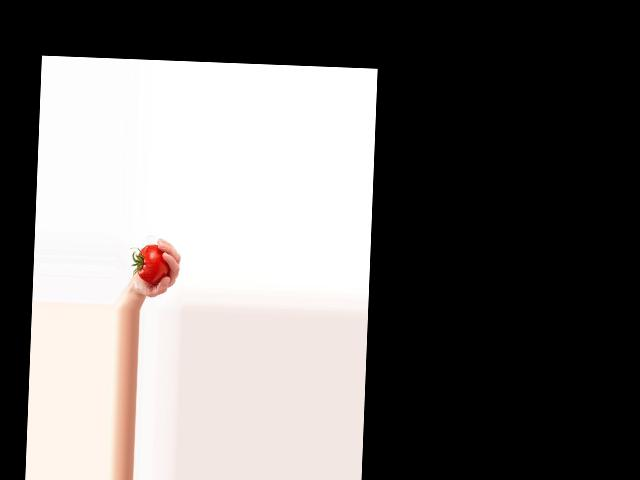tomato: (136, 244, 170, 283)
